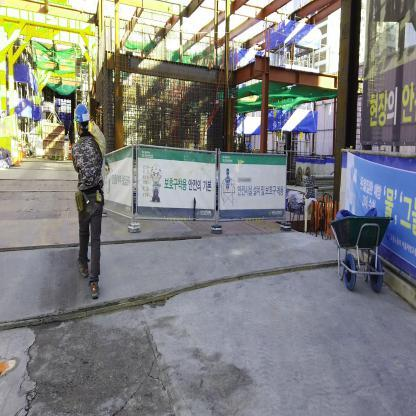safety-shoe: (84, 279, 104, 304)
